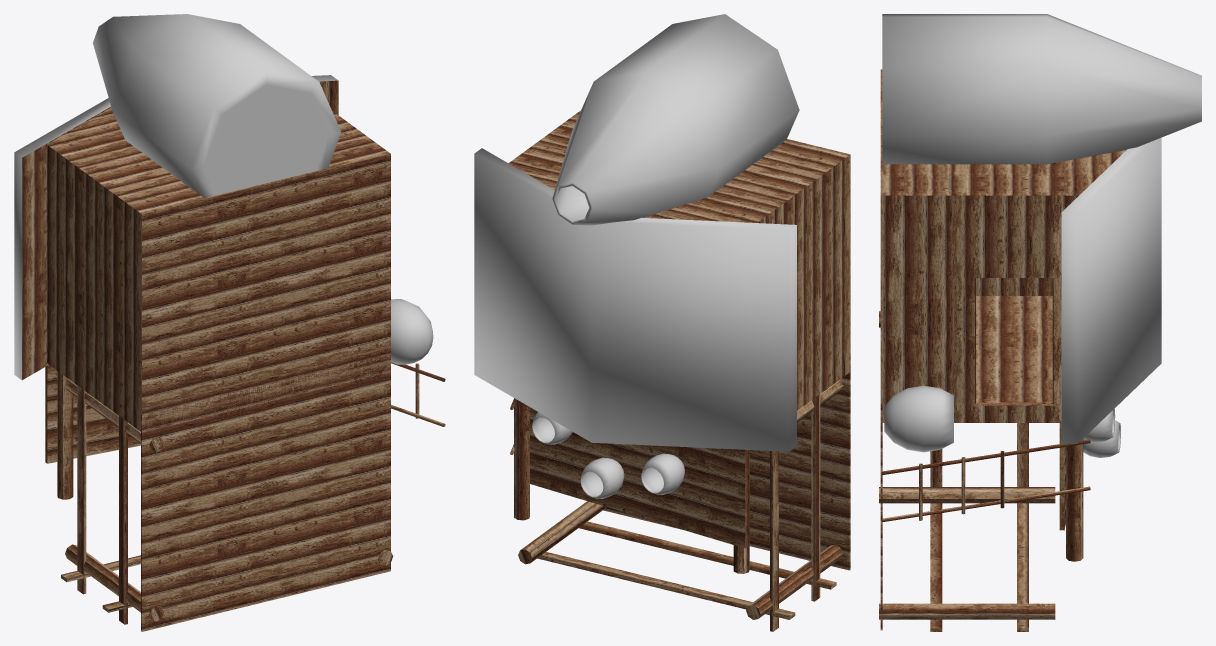
Rendered from laboratory.fbx.
The picture shows the model from 3 angles, left to right: view 1: azimuth 30°, elevation 25°; view 2: azimuth 150°, elevation 25°; view 3: azimuth 270°, elevation 25°; orthographic projection. The views are drawn at different scales.
Parts seen in each view (by area): view 1: Laboratory; view 2: Laboratory; view 3: Laboratory.
Boxes of the visible parts, bbox=[...] form: Laboratory: bbox=[14, 14, 445, 631]; Laboratory: bbox=[474, 14, 850, 631]; Laboratory: bbox=[879, 14, 1201, 631].
Bounding box in the file's own units: 9.71 × 14.8 × 7.69.
